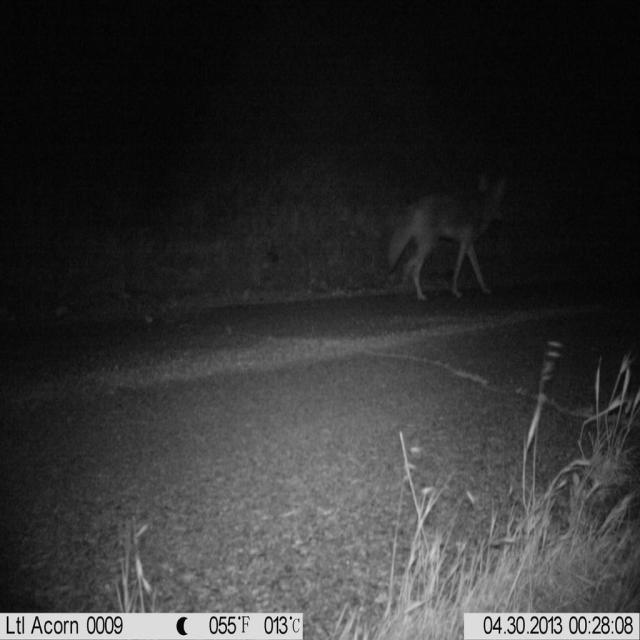coyote: (381, 162, 515, 308)
